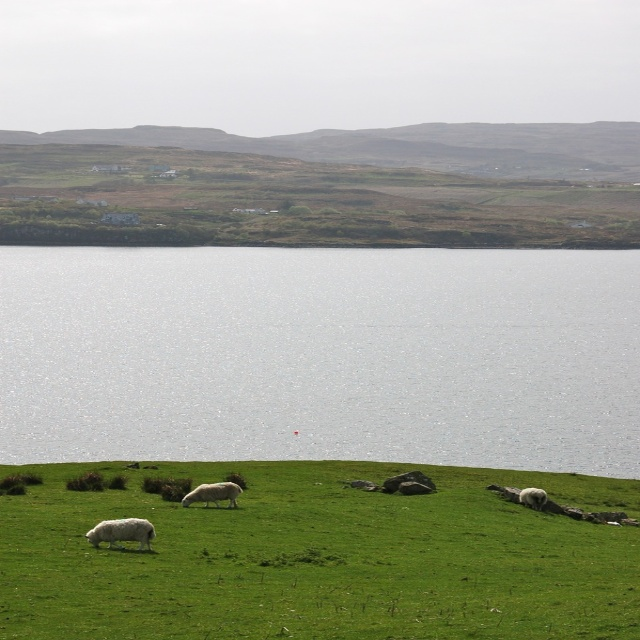Sheep: (85, 518, 155, 554), (184, 484, 244, 512), (518, 488, 547, 508)
